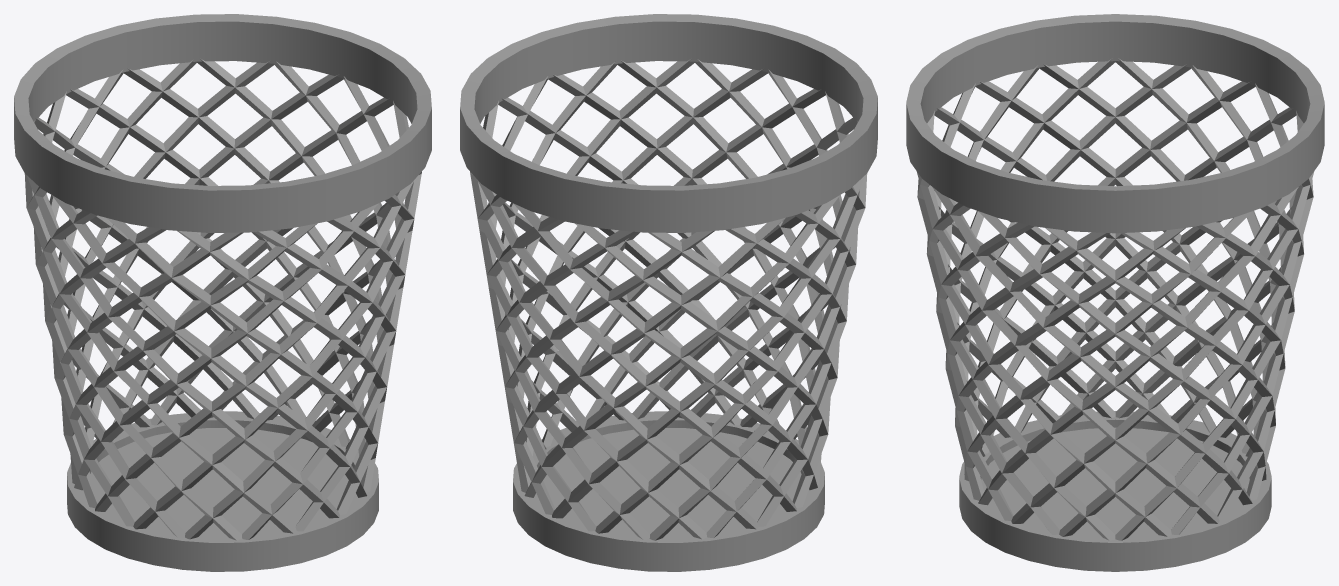
The model's file is wastebasket.gltf.
The picture shows the model from 3 angles, left to right: view 1: azimuth 30°, elevation 25°; view 2: azimuth 150°, elevation 25°; view 3: azimuth 270°, elevation 25°; orthographic projection.
Visible parts, largest first — view 1: Circle.2575; view 2: Circle.2575; view 3: Circle.2575.
Boxes of the visible parts, x1=… form: Circle.2575: x1=14, y1=14, x2=431, y2=571; Circle.2575: x1=460, y1=14, x2=877, y2=571; Circle.2575: x1=906, y1=14, x2=1324, y2=571.
Size of the model in its own units: 1.79 by 1.9 by 1.79.
Materials: 1 (1 with a texture image).
